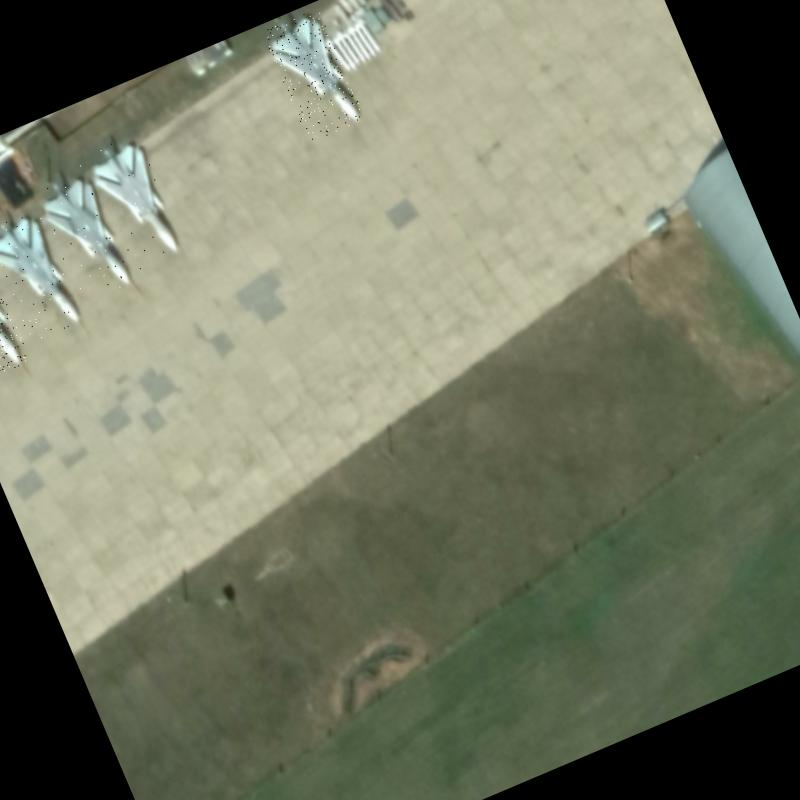A20: (32, 162, 138, 304), (84, 132, 189, 272), (262, 8, 366, 143), (0, 205, 86, 345), (0, 244, 31, 385)
